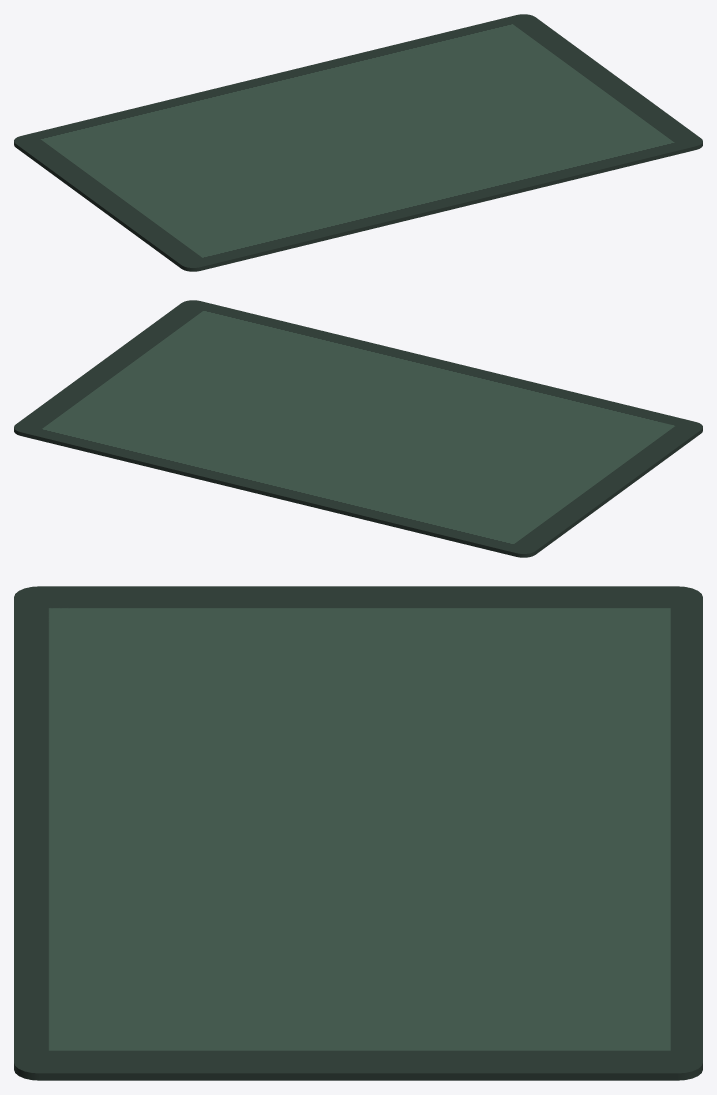
Rendered from alfombra2.obj.
The picture shows the model from 3 angles, top to bottom: view 1: azimuth 30°, elevation 25°; view 2: azimuth 150°, elevation 25°; view 3: azimuth 270°, elevation 25°; orthographic projection. The views are drawn at different scales.
Visible parts, largest first — view 1: pCube1; view 2: pCube1; view 3: pCube1.
Boxes of the visible parts, left/top/right/bottom form: pCube1: left=14, top=14, right=702, bottom=271; pCube1: left=14, top=300, right=702, bottom=557; pCube1: left=14, top=586, right=702, bottom=1080.
Bounding box in the file's own units: 5.12 × 0.0352 × 3.06.
Materials: 1 (1 with a texture image).
